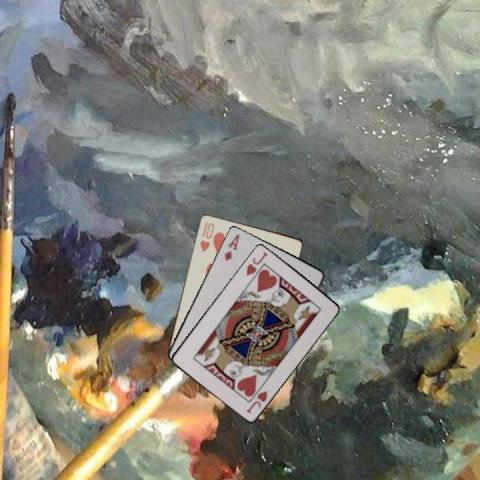10h: (197, 219, 215, 253)
Ad: (221, 230, 241, 262)
Jh: (243, 248, 269, 276), (243, 387, 269, 415)
